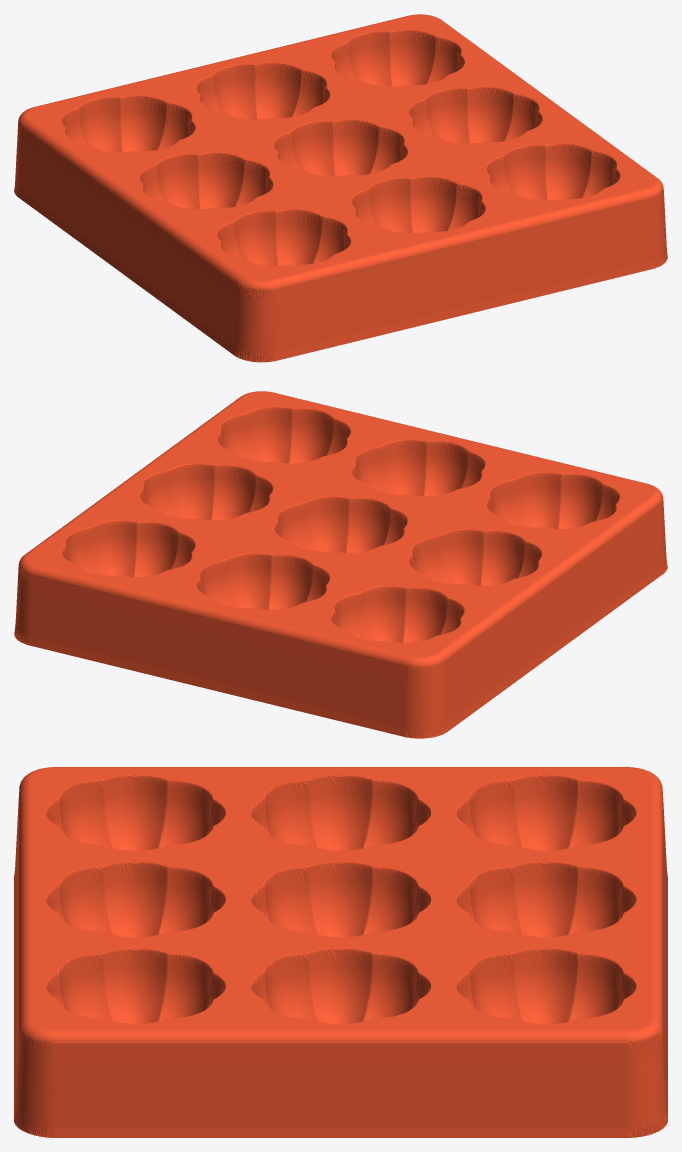
File: mold.glb
3 renders of one model, top to bottom at view 1: azimuth 30°, elevation 25°; view 2: azimuth 150°, elevation 25°; view 3: azimuth 270°, elevation 25°, orthographic. The views are drawn at different scales.
Parts seen in each view (by area): view 1: geometry_0; view 2: geometry_0; view 3: geometry_0.
Boxes of the visible parts, x1=… form: geometry_0: x1=14, y1=14, x2=667, y2=362; geometry_0: x1=14, y1=391, x2=667, y2=738; geometry_0: x1=14, y1=767, x2=667, y2=1137.
Size of the model in its own units: 0.1409 by 0.0239 by 0.1409.
